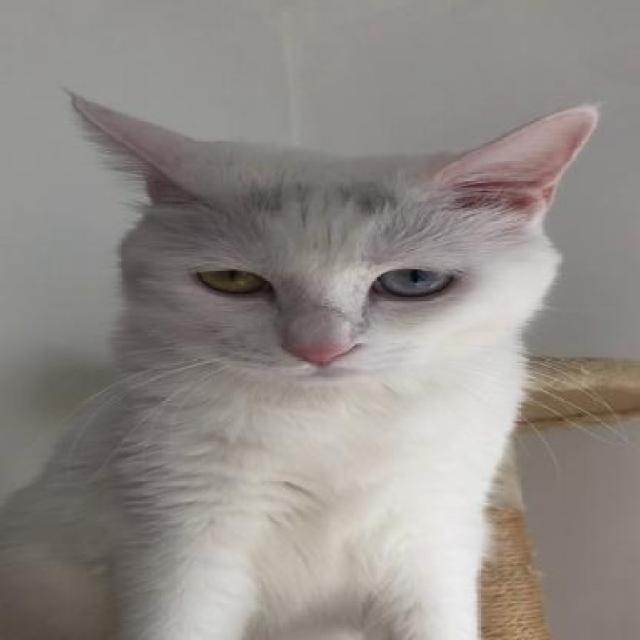cat-face: (55, 95, 602, 382)
